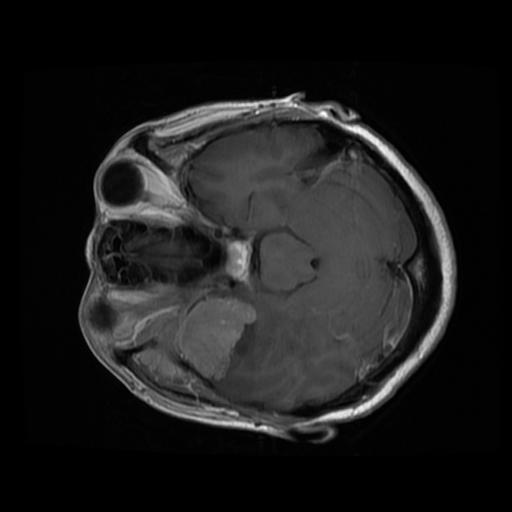meningioma: (135, 297, 258, 390)
